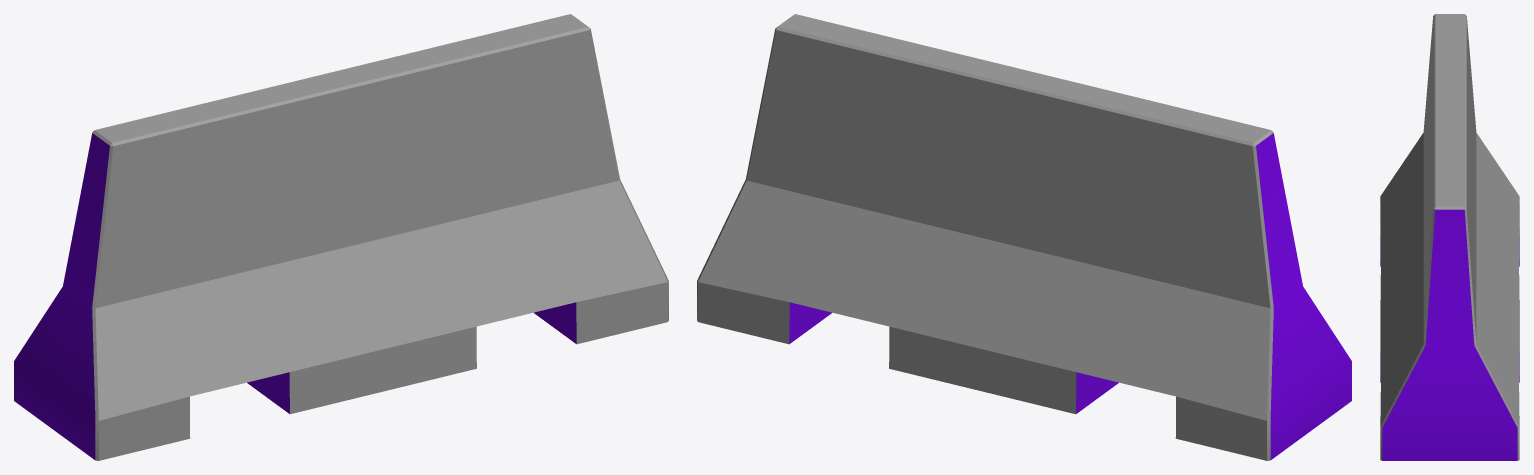
The model's file is Barricade_Concrete_05.fbx.
The picture shows the model from 3 angles, left to right: view 1: azimuth 30°, elevation 25°; view 2: azimuth 150°, elevation 25°; view 3: azimuth 270°, elevation 25°; orthographic projection. The views are drawn at different scales.
Parts seen in each view (by area): view 1: Obstacle_Barricade_Concrete_05; view 2: Obstacle_Barricade_Concrete_05; view 3: Obstacle_Barricade_Concrete_05.
Boxes of the visible parts, left/top/right/bottom form: Obstacle_Barricade_Concrete_05: left=14, top=14, right=668, bottom=460; Obstacle_Barricade_Concrete_05: left=697, top=14, right=1351, bottom=460; Obstacle_Barricade_Concrete_05: left=1380, top=14, right=1519, bottom=460.
Bounding box in the file's own units: 136 × 64.19 × 34.54.
1 material, 1 textured.
